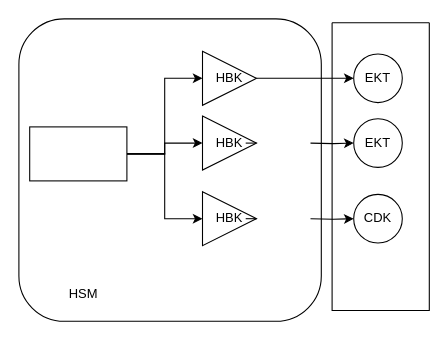
Some shapes in this 448 by 340 pixel diagram are drawn without their labels. Here are the shapes that lost their labels. From the top down, the box of each, then its label:
(29, 126, 127, 181): Domain Key
(331, 22, 429, 310): AWS KMS
